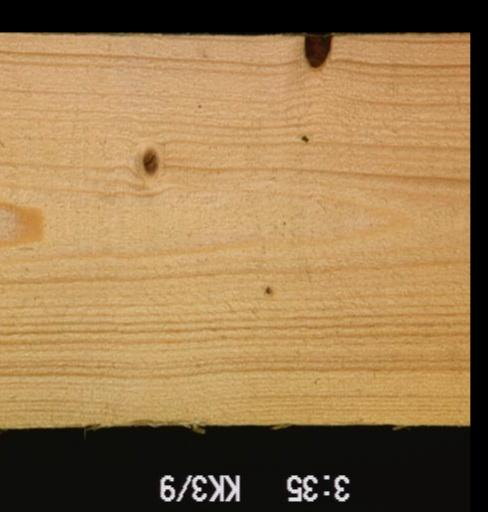small_knot: (261, 284, 274, 296)
sound_knot: (139, 146, 161, 176)
